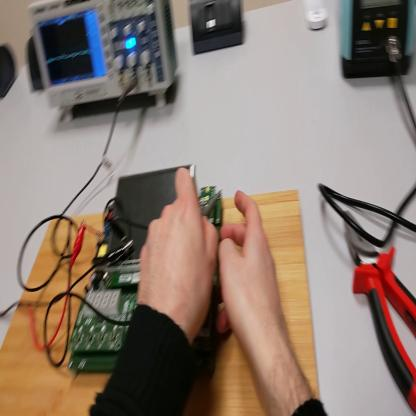hand: (136, 165, 217, 342), (219, 190, 287, 362)
low voltage board: (68, 161, 224, 374)
oscilloscope: (31, 1, 181, 123)
oscilloscope probe tip: (203, 187, 221, 218)
pliers: (347, 208, 416, 413)
socket: (26, 37, 45, 94), (2, 43, 18, 103)
welder station: (338, 2, 416, 80)
working area: (2, 186, 320, 414)
